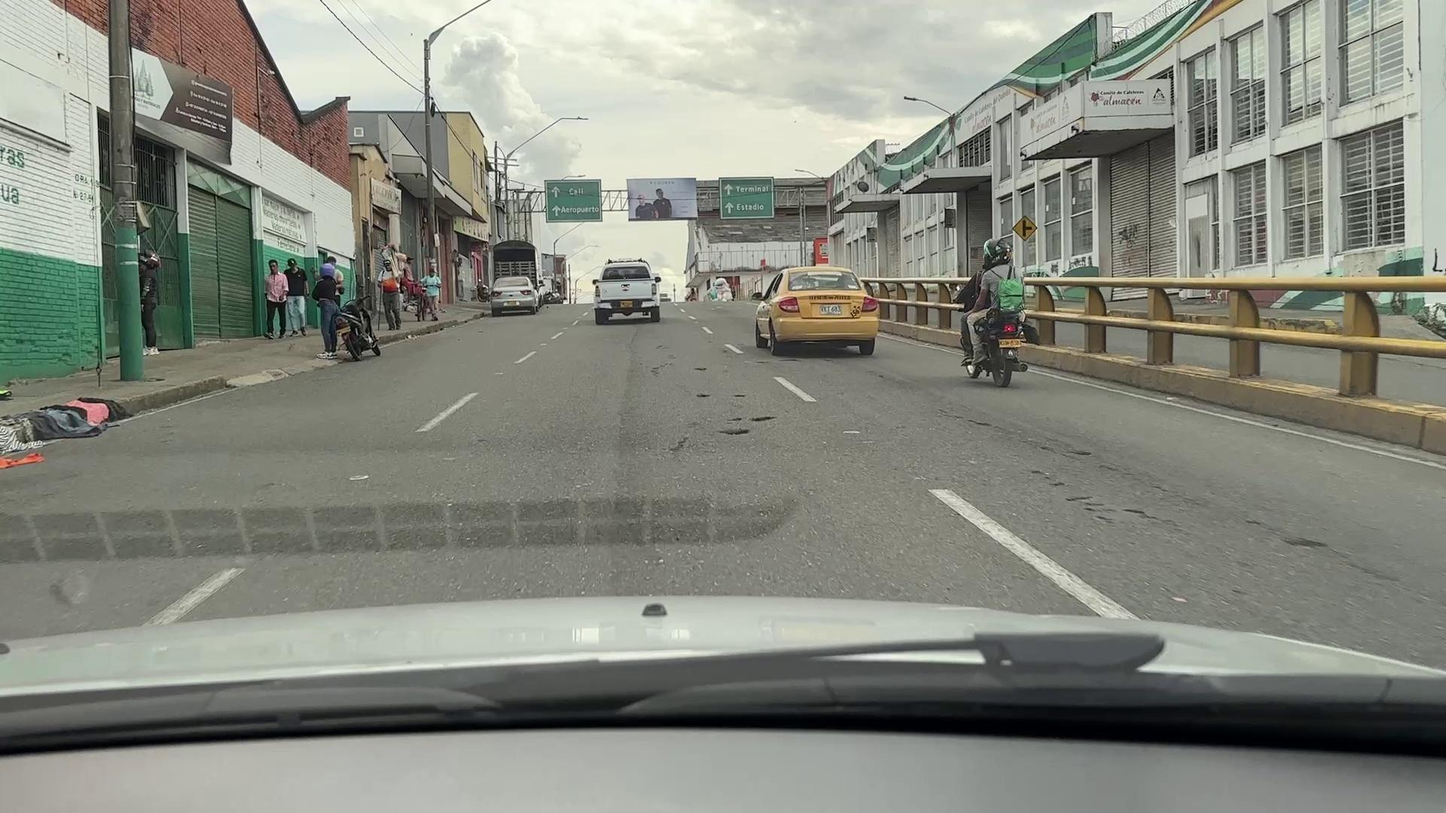bache: (1286, 537, 1327, 546), (1123, 509, 1155, 519), (720, 427, 749, 436), (753, 416, 773, 422), (1066, 497, 1091, 501), (1094, 515, 1112, 520), (1069, 450, 1091, 454), (729, 417, 741, 421), (694, 368, 707, 371), (697, 395, 710, 397), (734, 395, 745, 397)
